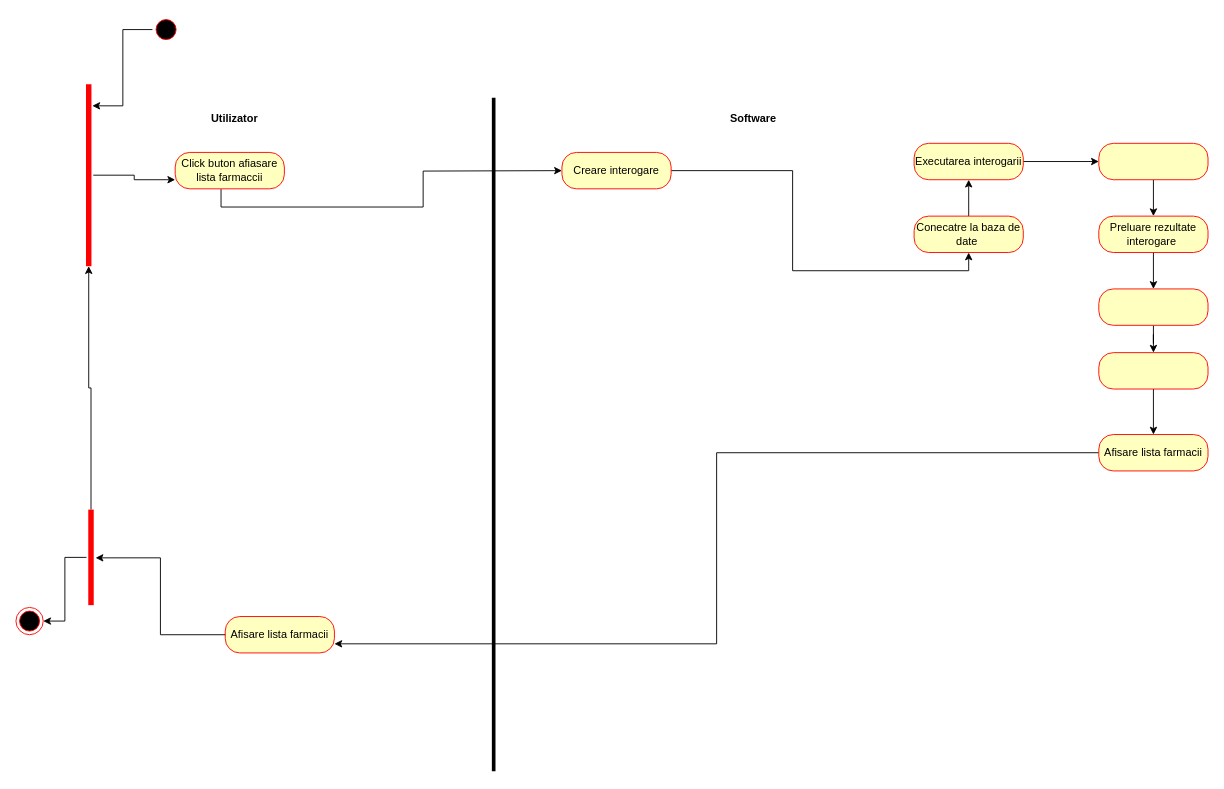
Image size: 1224x789. Some labels were removed from this diagram. The shapes that lost their labels are listed below. From the top down, each one's centre as x and y in pixels, then its label:
At [1153,161]: "Deconectare de la baza de date".
At [1153,306]: "Analiza rezultat".
At [1153,370]: "Afisare mesaj succes".
